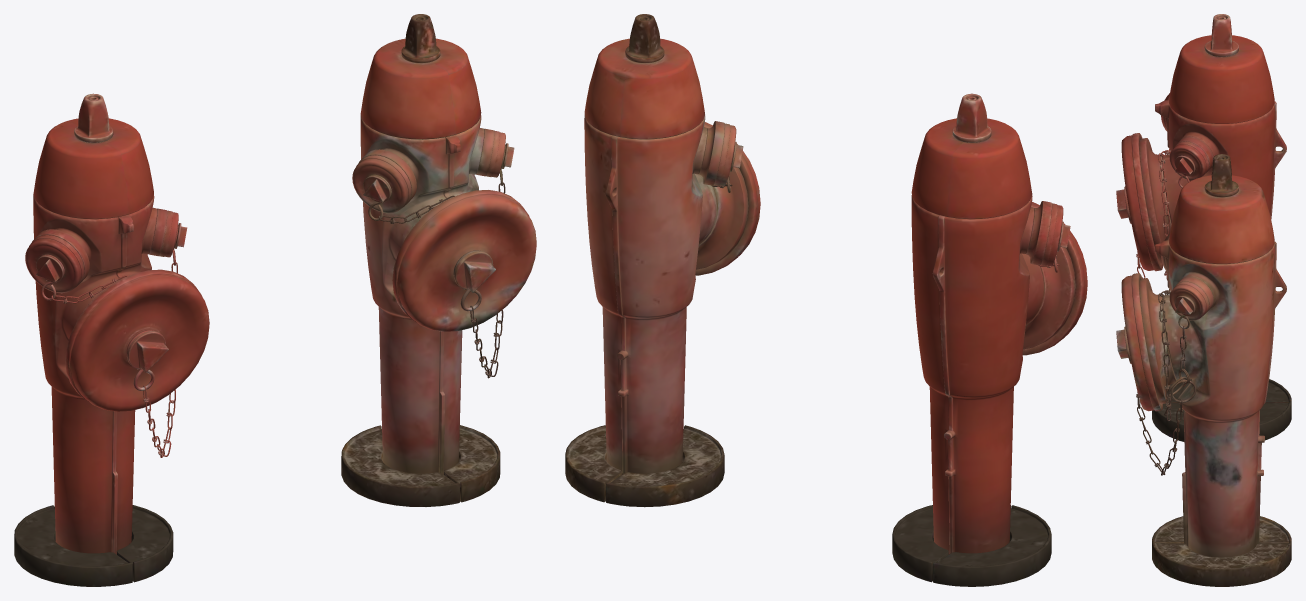
Rendered from fire_hydrant.glb.
The picture shows the model from 3 angles, left to right: view 1: azimuth 30°, elevation 25°; view 2: azimuth 150°, elevation 25°; view 3: azimuth 270°, elevation 25°; orthographic projection. The views are drawn at different scales.
Visible parts, largest first — view 1: fire_hydrant, fire_hydrant_aged, fire_hydrant_cap_01, fire_hydrant_cap_01_aged, fire_hydrant_cap_03_aged, fire_hydrant_cap_03, fire_hydrant_chain_aged, fire_hydrant_chain, fire_hydrant_cap_02, fire_hydrant_cap_02_aged; view 2: fire_hydrant_aged, fire_hydrant, fire_hydrant_cap_01_aged, fire_hydrant_cap_01, fire_hydrant_cap_03_aged, fire_hydrant_cap_03; view 3: fire_hydrant_aged, fire_hydrant, fire_hydrant_cap_01, fire_hydrant_cap_01_aged, fire_hydrant_chain_aged, fire_hydrant_cap_02_aged, fire_hydrant_cap_02, fire_hydrant_chain.
Boxes of the visible parts, bbox=[...] form: fire_hydrant: bbox=[14, 93, 173, 586]; fire_hydrant_aged: bbox=[341, 14, 500, 506]; fire_hydrant_cap_01: bbox=[65, 269, 209, 411]; fire_hydrant_cap_01_aged: bbox=[392, 190, 536, 331]; fire_hydrant_cap_03_aged: bbox=[352, 155, 411, 213]; fire_hydrant_cap_03: bbox=[25, 235, 84, 293]; fire_hydrant_chain_aged: bbox=[368, 145, 505, 378]; fire_hydrant_chain: bbox=[41, 224, 178, 457]; fire_hydrant_cap_02: bbox=[159, 210, 187, 257]; fire_hydrant_cap_02_aged: bbox=[486, 130, 514, 177]; fire_hydrant_aged: bbox=[565, 14, 748, 507]; fire_hydrant: bbox=[892, 93, 1075, 586]; fire_hydrant_cap_01_aged: bbox=[695, 122, 760, 275]; fire_hydrant_cap_01: bbox=[1022, 202, 1087, 355]; fire_hydrant_cap_03_aged: bbox=[713, 123, 743, 186]; fire_hydrant_cap_03: bbox=[1041, 203, 1070, 266]; fire_hydrant_aged: bbox=[1139, 154, 1291, 586]; fire_hydrant: bbox=[1139, 14, 1291, 441]; fire_hydrant_cap_01: bbox=[1116, 133, 1162, 271]; fire_hydrant_cap_01_aged: bbox=[1116, 273, 1162, 411]; fire_hydrant_chain_aged: bbox=[1136, 289, 1196, 475]; fire_hydrant_cap_02_aged: bbox=[1169, 281, 1209, 320]; fire_hydrant_cap_02: bbox=[1169, 141, 1209, 180]; fire_hydrant_chain: bbox=[1136, 149, 1194, 280].
Size of the model in its own units: 0.8746 by 0.7995 by 0.3177.
Materials: 2 (2 with a texture image).
